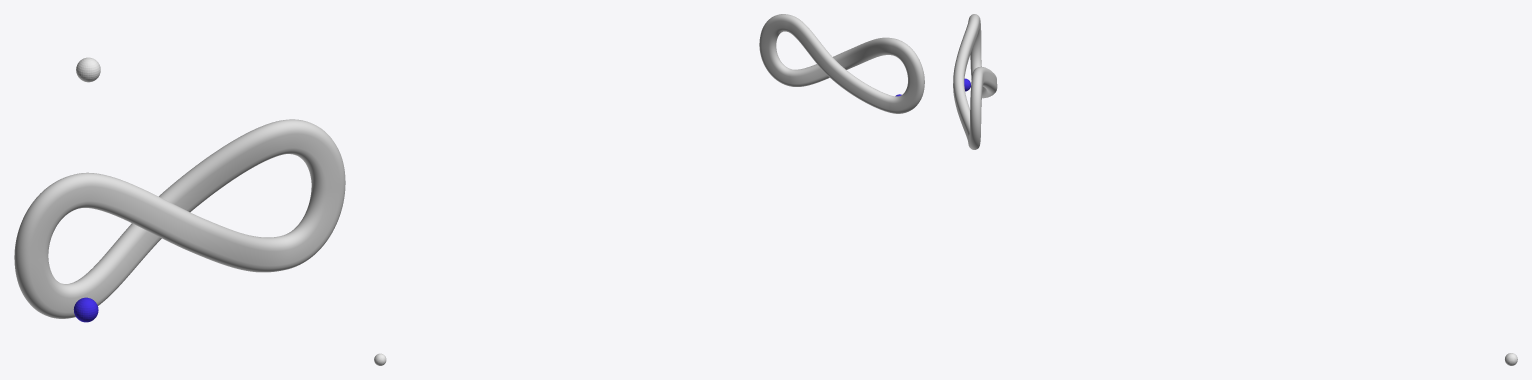
File: infinity.glb
3 views of the same model, side by side, from view 1: azimuth 30°, elevation 25°; view 2: azimuth 150°, elevation 25°; view 3: azimuth 270°, elevation 25° (orthographic). The views are drawn at different scales.
Parts seen in each view (by area): view 1: Lemniscate Symbol (Spline).001, Sphere.002, ball; view 2: Lemniscate Symbol (Spline).001; view 3: Lemniscate Symbol (Spline).001.
Boxes of the visible parts, x1,y1,x2,y2 form: Lemniscate Symbol (Spline).001: (14,119,345,318); Sphere.002: (76,57,100,82); ball: (73,297,98,322); Lemniscate Symbol (Spline).001: (759,14,924,113); Lemniscate Symbol (Spline).001: (953,14,997,149).
Size of the model in its own units: 3.6 by 2.36 by 5.65.
